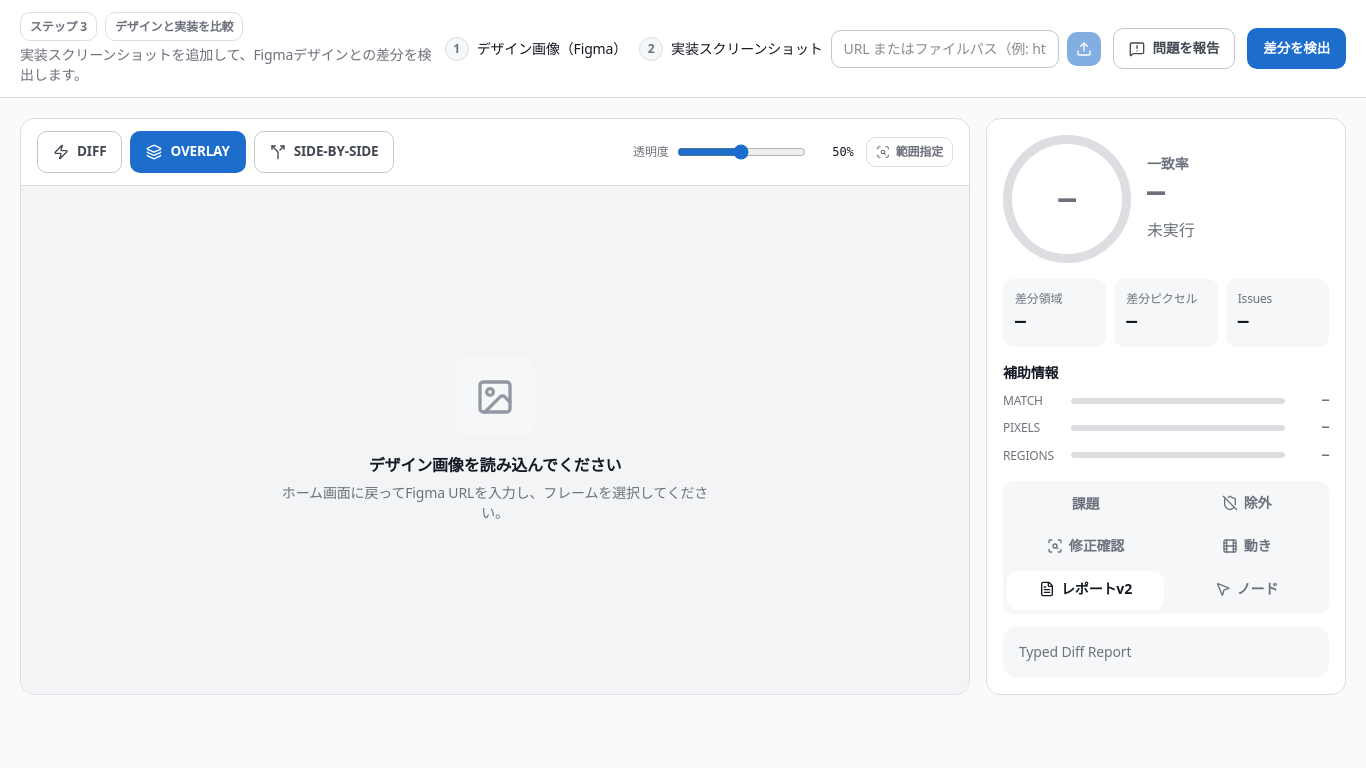
it: ComparePage › 比較前でも上部ボタンから問題報告を開ける
Step 1. Click the button "問題を報告" → (1174, 49), box x1=1113 y1=28 x2=1235 y2=69
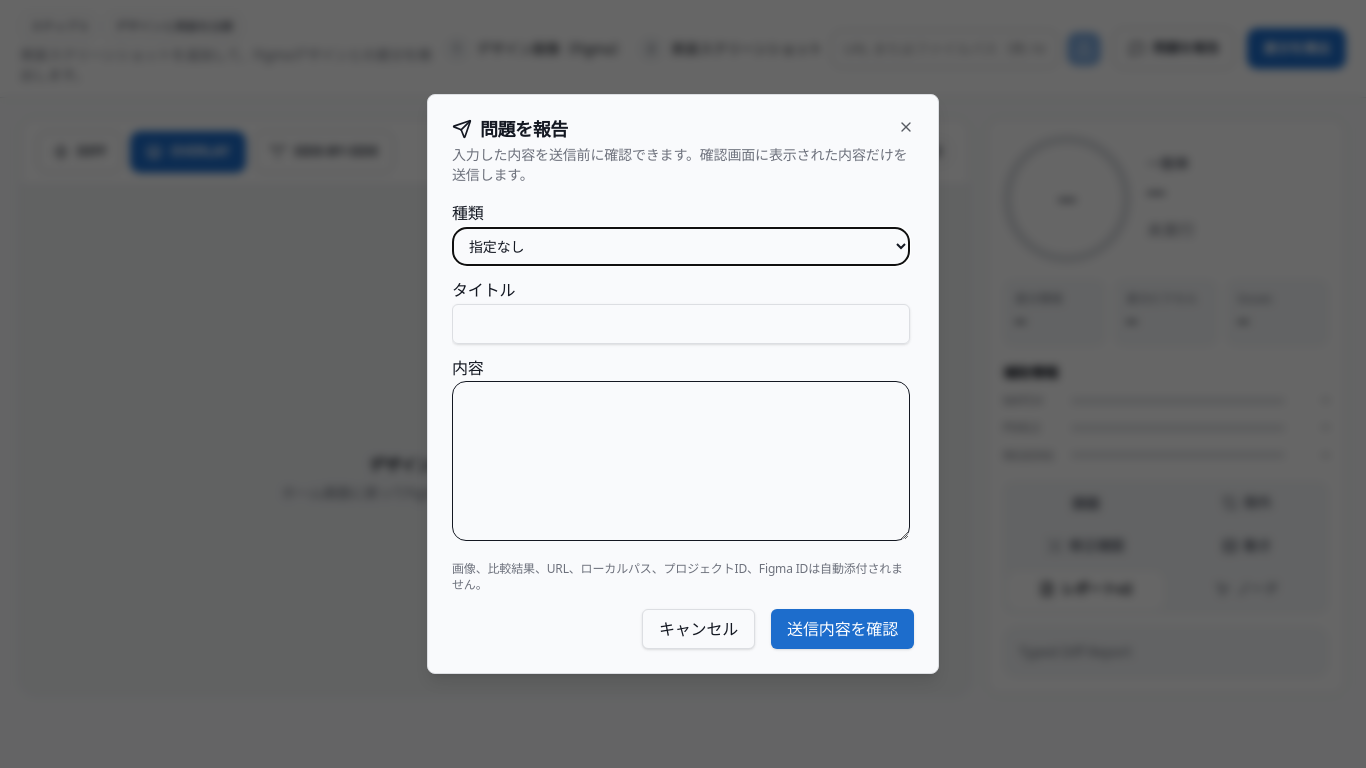
Expected: the field labelled "タイトル" is shown, x1=452 y1=304 x2=910 y2=344
Now the dialog is shown, box x1=427 y1=94 x2=939 y2=674
Now the text box labelled "内容" is shown, box x1=452 y1=381 x2=910 y2=541
